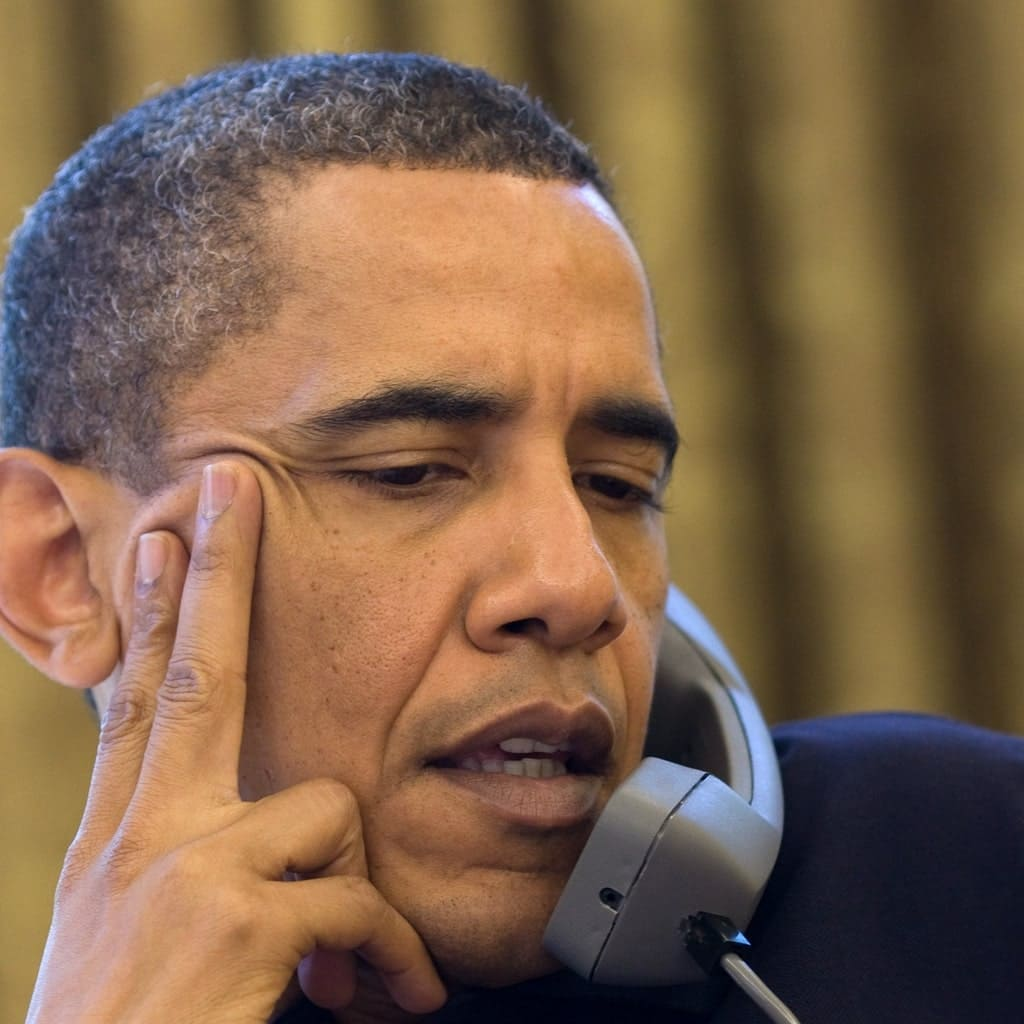without_mask: (240, 285, 677, 877)
